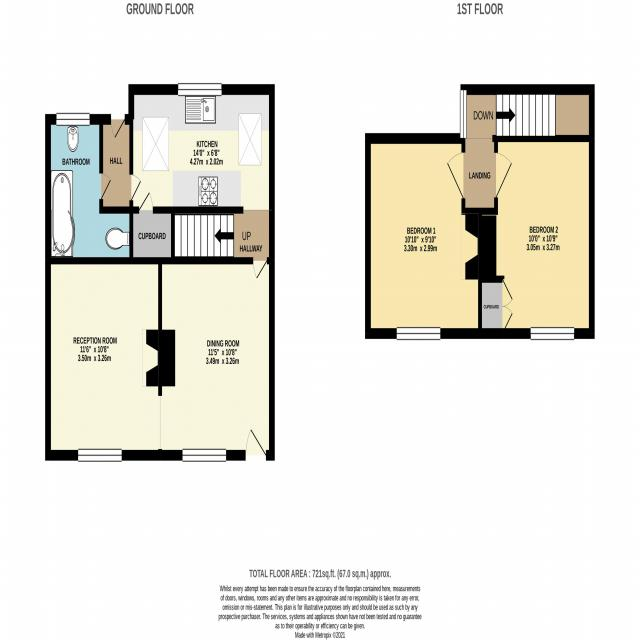DOOR: (445, 150, 466, 201), (494, 150, 514, 200), (245, 428, 267, 461), (110, 113, 125, 140), (99, 172, 112, 200), (129, 173, 141, 201), (139, 191, 153, 214), (253, 257, 267, 280)
ROOM: (45, 256, 275, 463), (128, 81, 275, 281), (364, 132, 482, 342), (478, 134, 596, 339)
WINDOW: (396, 325, 441, 341), (529, 326, 575, 341), (178, 82, 222, 97), (77, 448, 122, 462), (182, 448, 226, 462), (56, 112, 90, 126), (459, 88, 467, 139)
